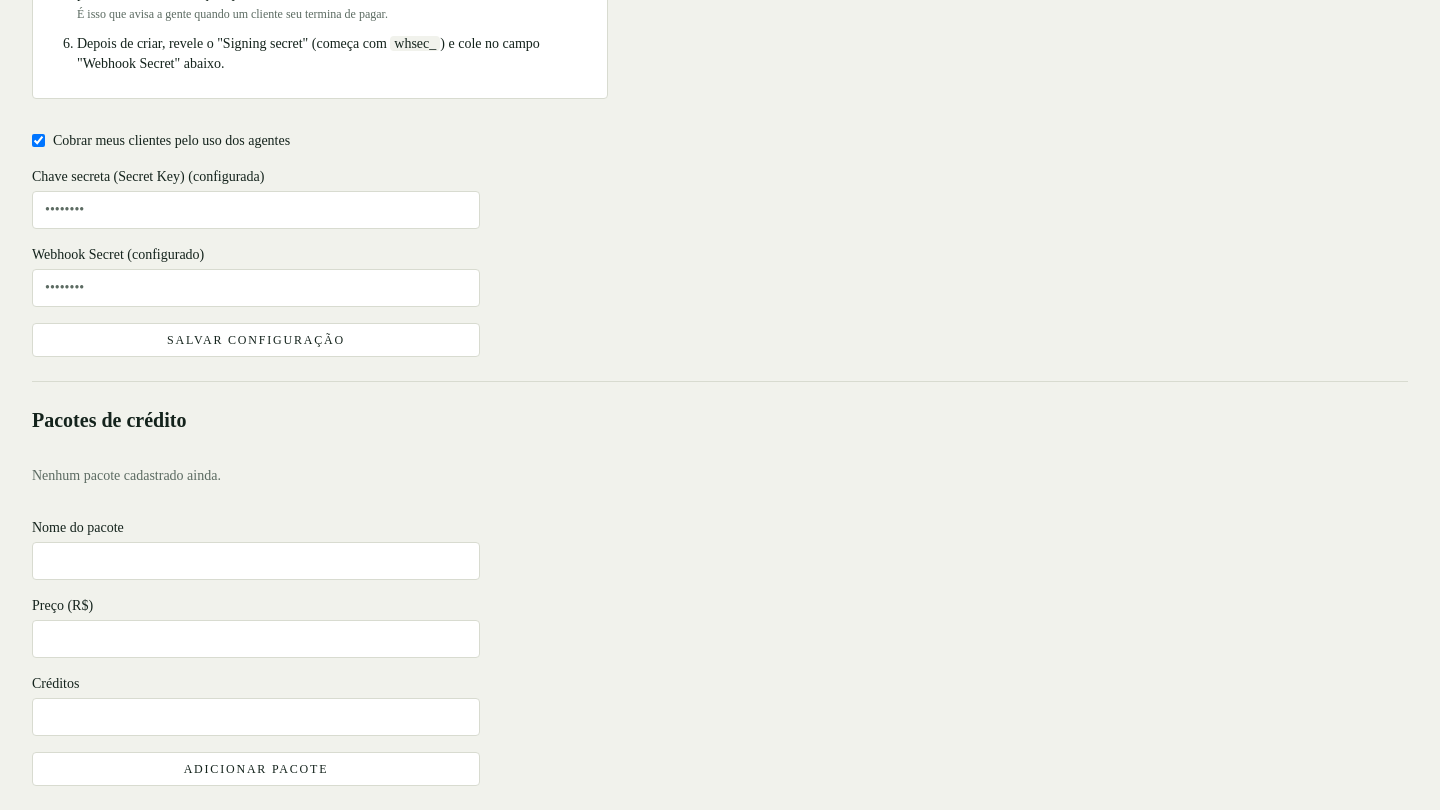
Test: EndCustomerBillingPanel › cria um pacote novo
(page scrolled)
Type "Growth" into the field labelled "Nome do pacote" at (256, 560), box [32,542,480,580]
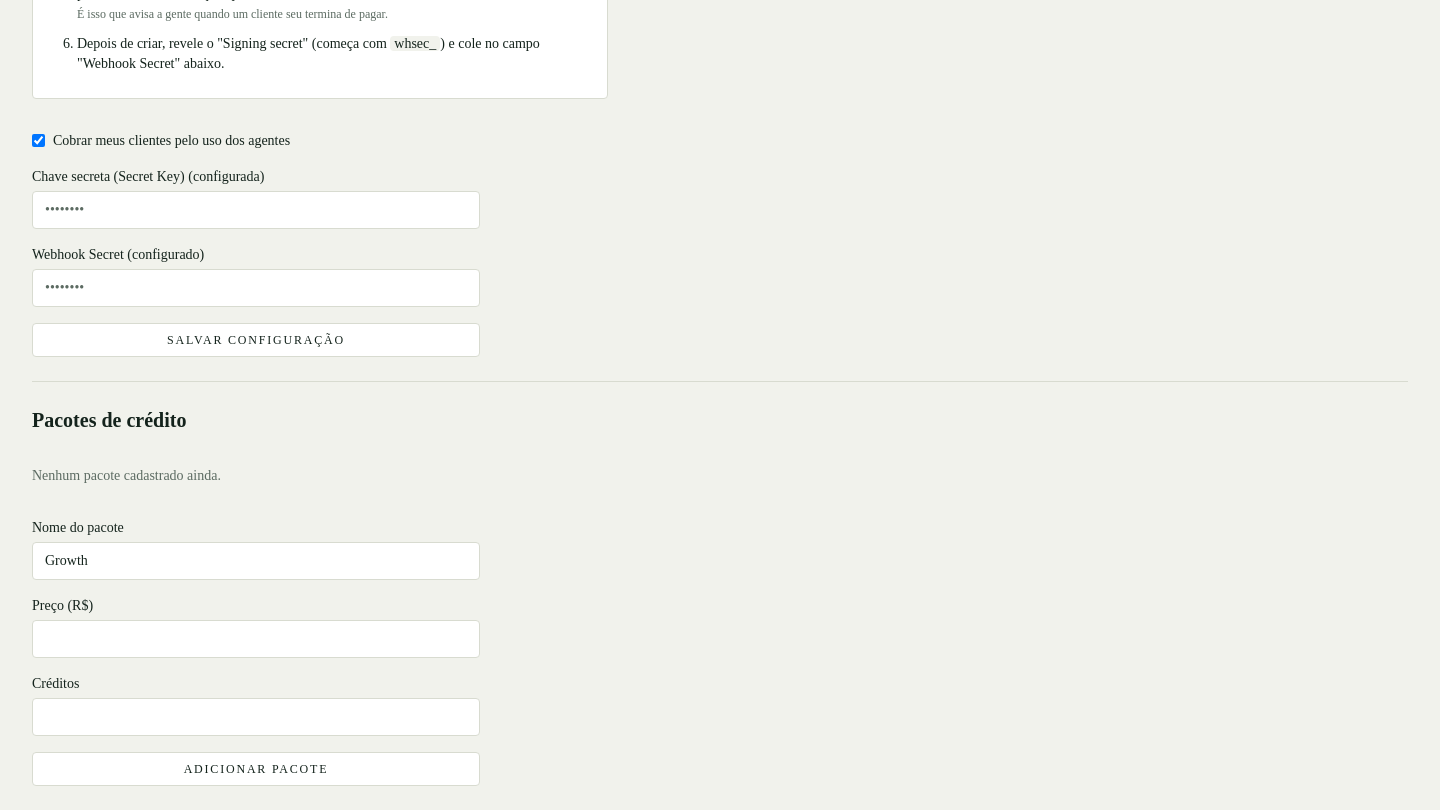
Type "99.90" into the field labelled "Preço (R$)" at (256, 638), box [32,620,480,658]
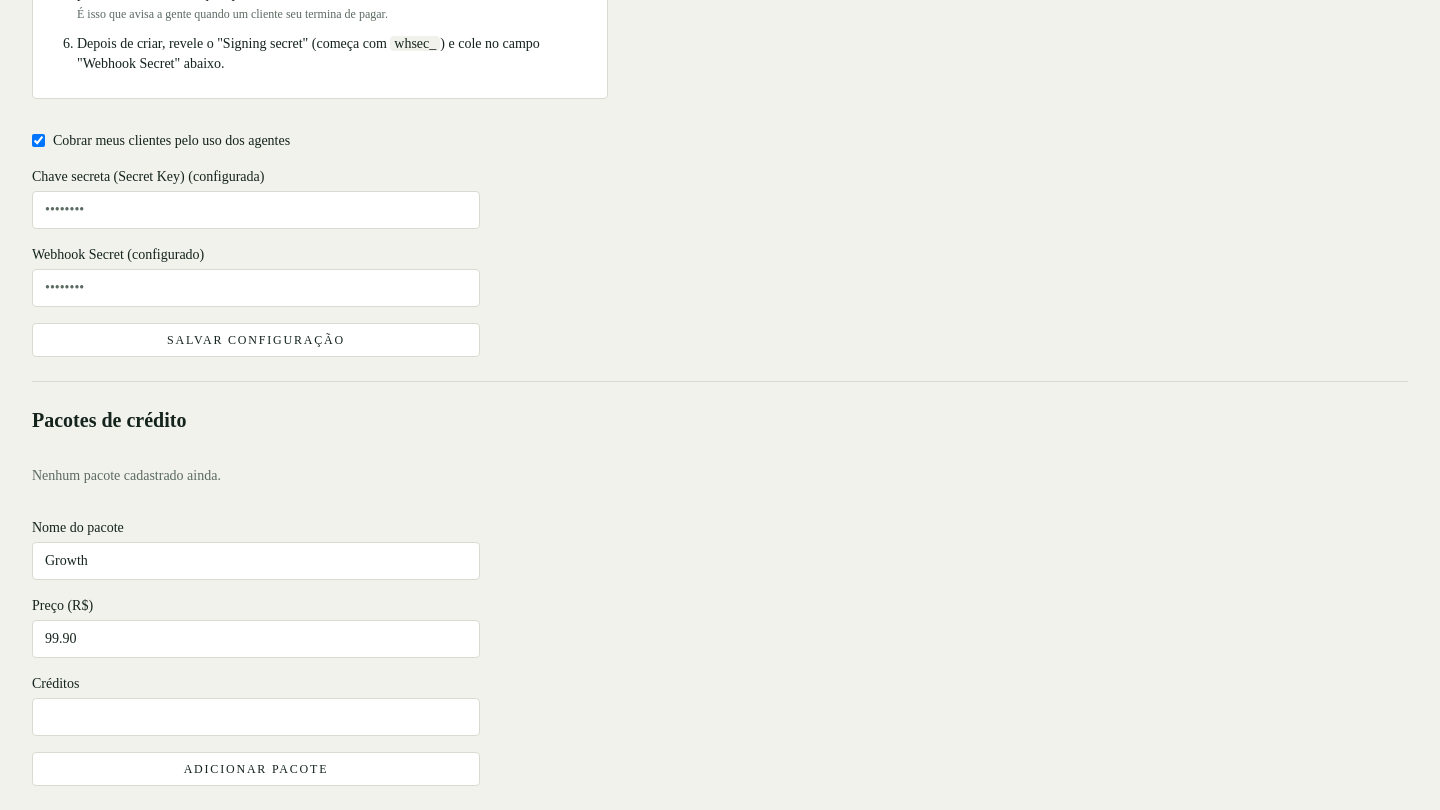
Type "1000" into the number field labelled "Créditos" at (256, 716), box [32,698,480,736]
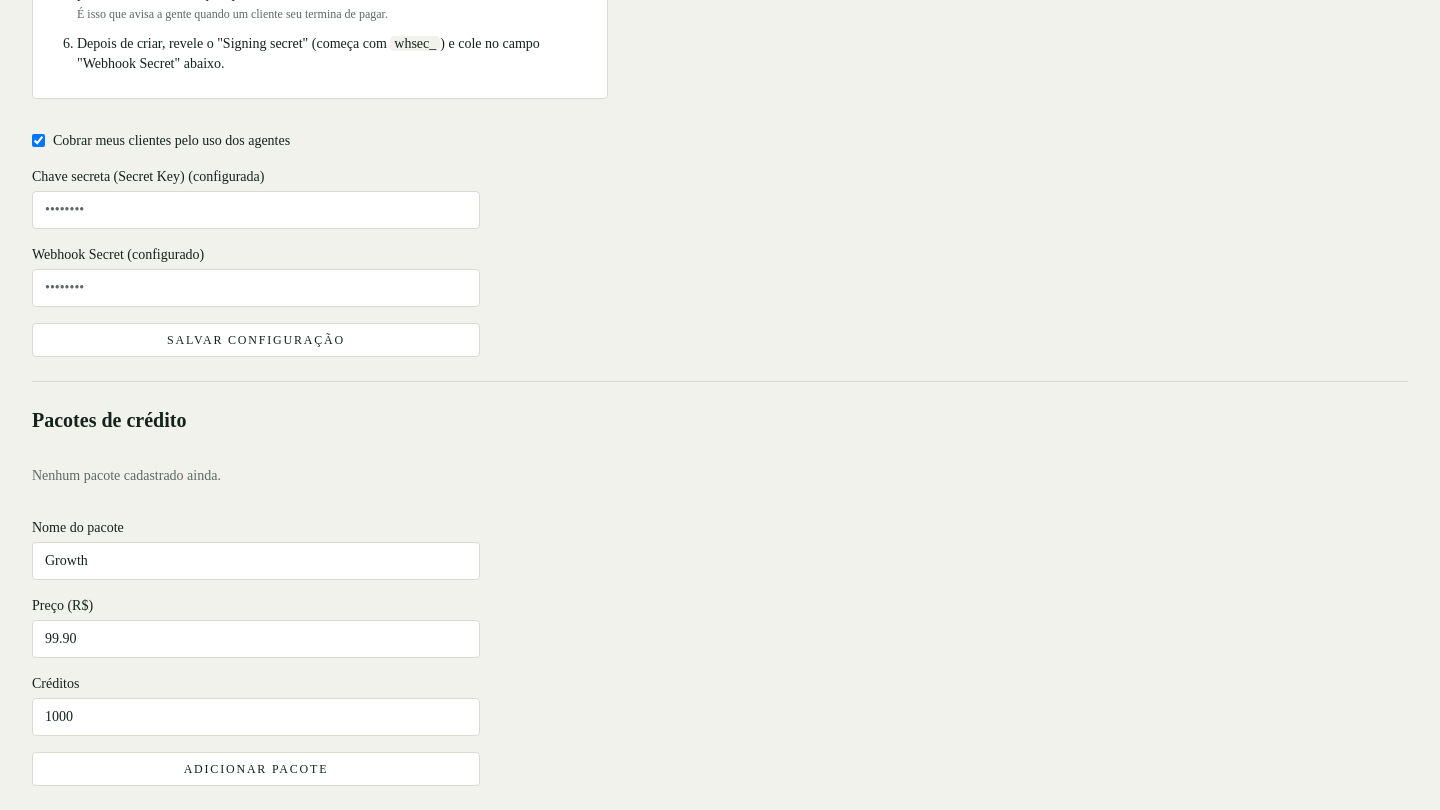
Click the button "Adicionar pacote" at (256, 768), box [32,752,480,786]
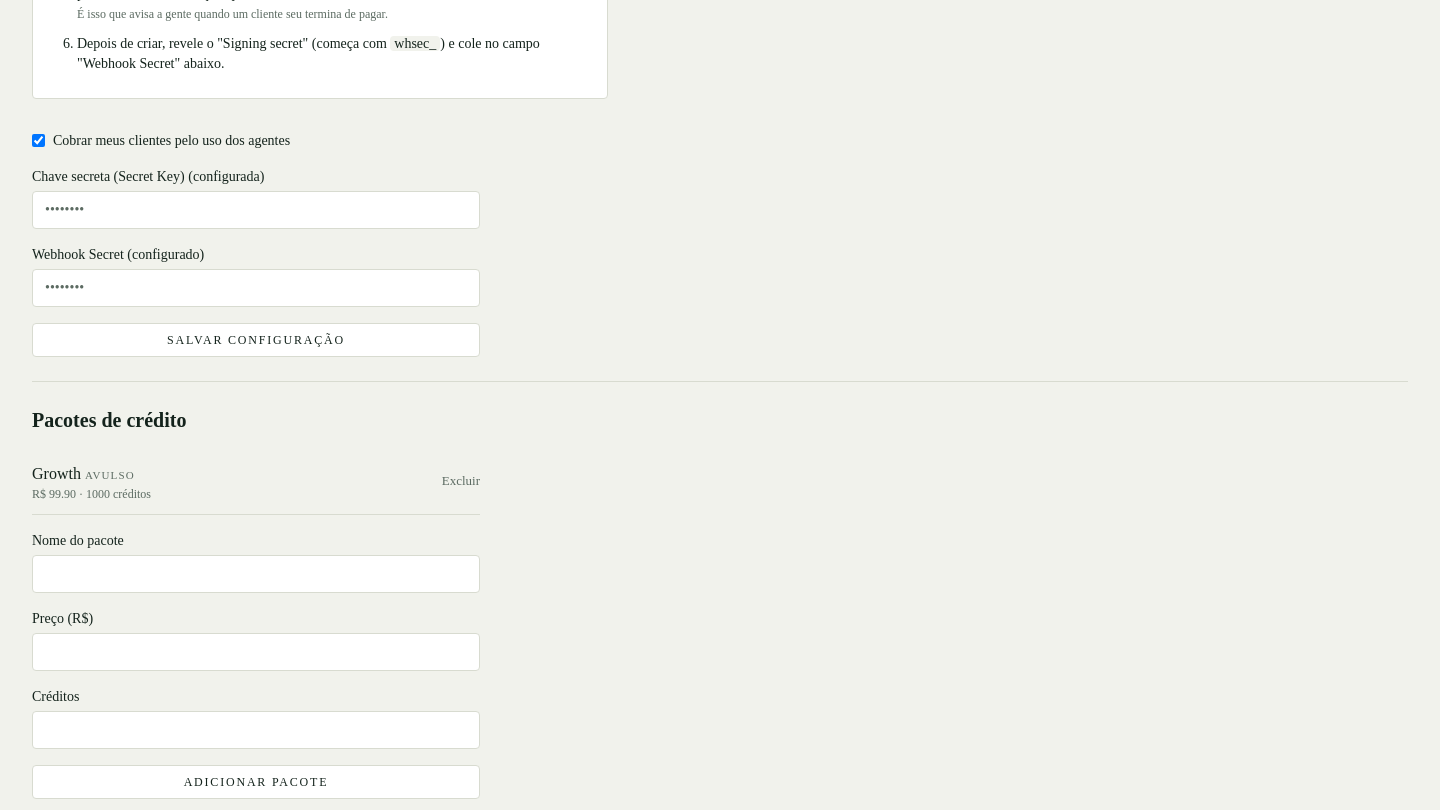
expect the text "Growth" is shown: met, box [32,464,81,482]
